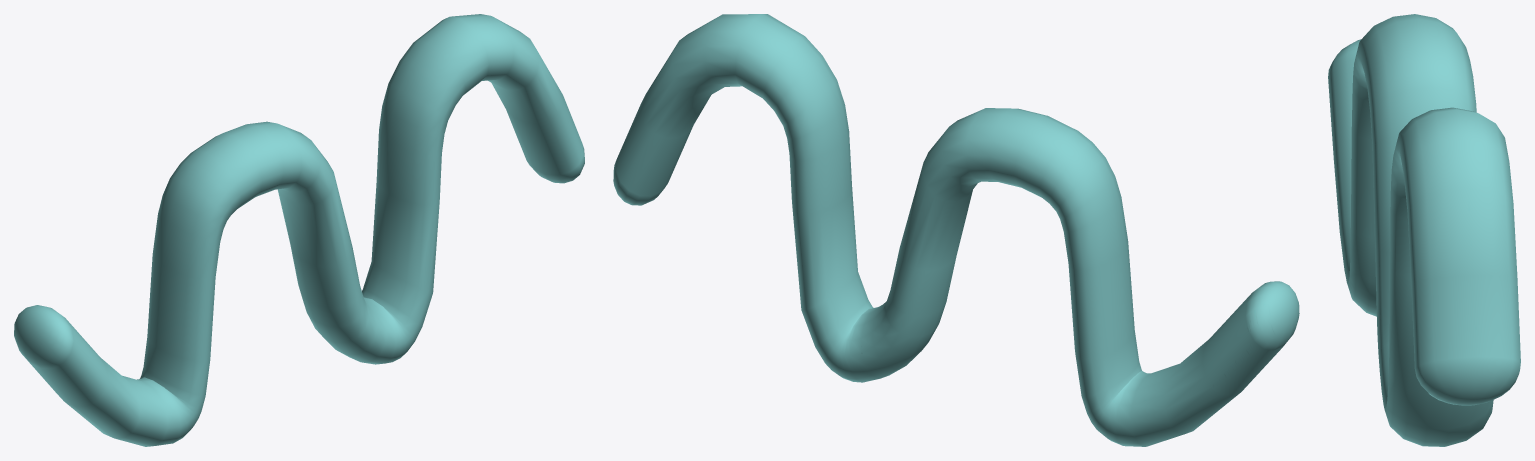
File: pasto.fbx
The picture shows the model from 3 angles, left to right: view 1: azimuth 30°, elevation 25°; view 2: azimuth 150°, elevation 25°; view 3: azimuth 270°, elevation 25°; orthographic projection. The views are drawn at different scales.
Parts seen in each view (by area): view 1: root; view 2: root; view 3: root.
Boxes of the visible parts, bbox=[...] form: root: bbox=[14, 14, 584, 446]; root: bbox=[613, 14, 1299, 446]; root: bbox=[1328, 14, 1520, 446].
Bounding box in the file's own units: 0.6051 × 0.3223 × 0.1388.
Materials: 1 (1 with a texture image).
